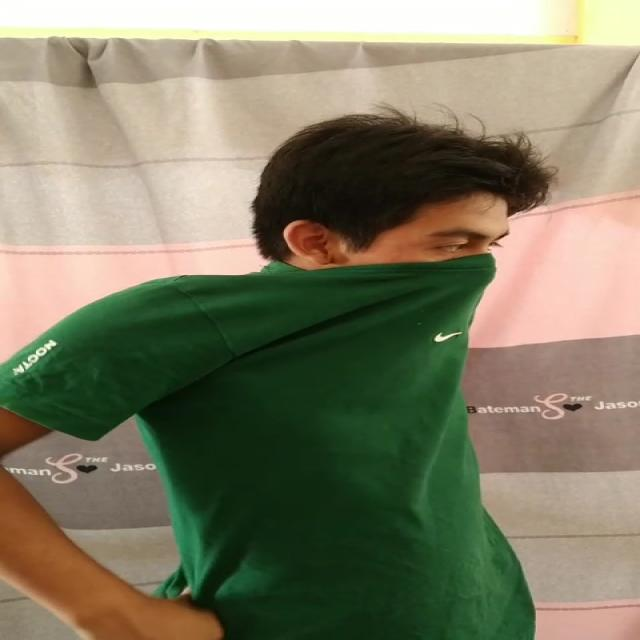8_ropa_rostro: (240, 248, 500, 350)
